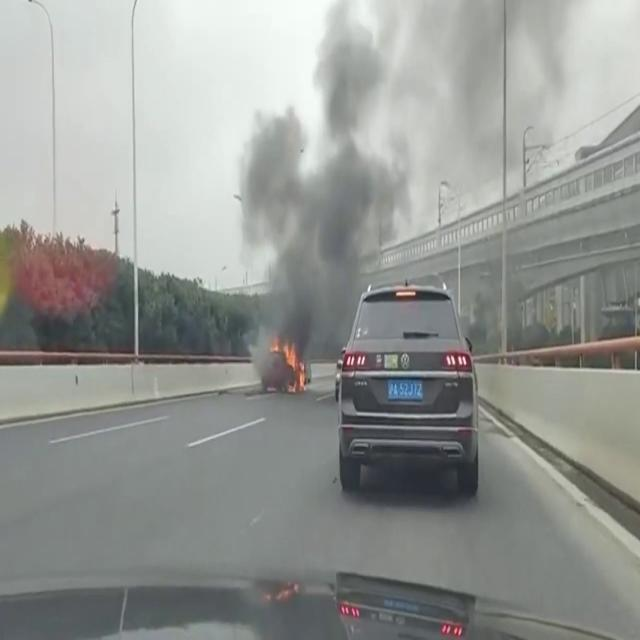accident: (238, 274, 318, 402)
